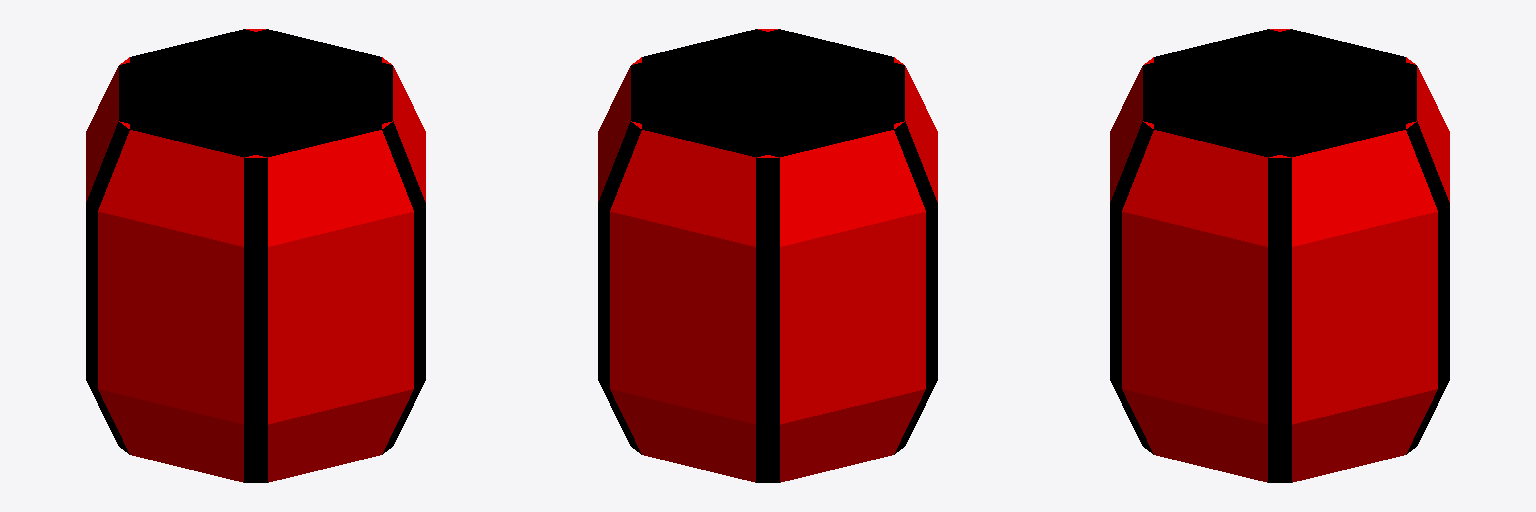
File: Lantern Cylinder.obj
3 views of the same model, side by side, from view 1: azimuth 30°, elevation 25°; view 2: azimuth 150°, elevation 25°; view 3: azimuth 270°, elevation 25° (orthographic).
Parts seen in each view (by area): view 1: Lantern Cylinder; view 2: Lantern Cylinder; view 3: Lantern Cylinder.
Part boxes in pixels (left/top/right/bottom): Lantern Cylinder: left=86, top=29, right=425, bottom=482; Lantern Cylinder: left=598, top=29, right=937, bottom=482; Lantern Cylinder: left=1110, top=29, right=1449, bottom=482.
Bounding box in the file's own units: 1.42 × 1.35 × 1.27.